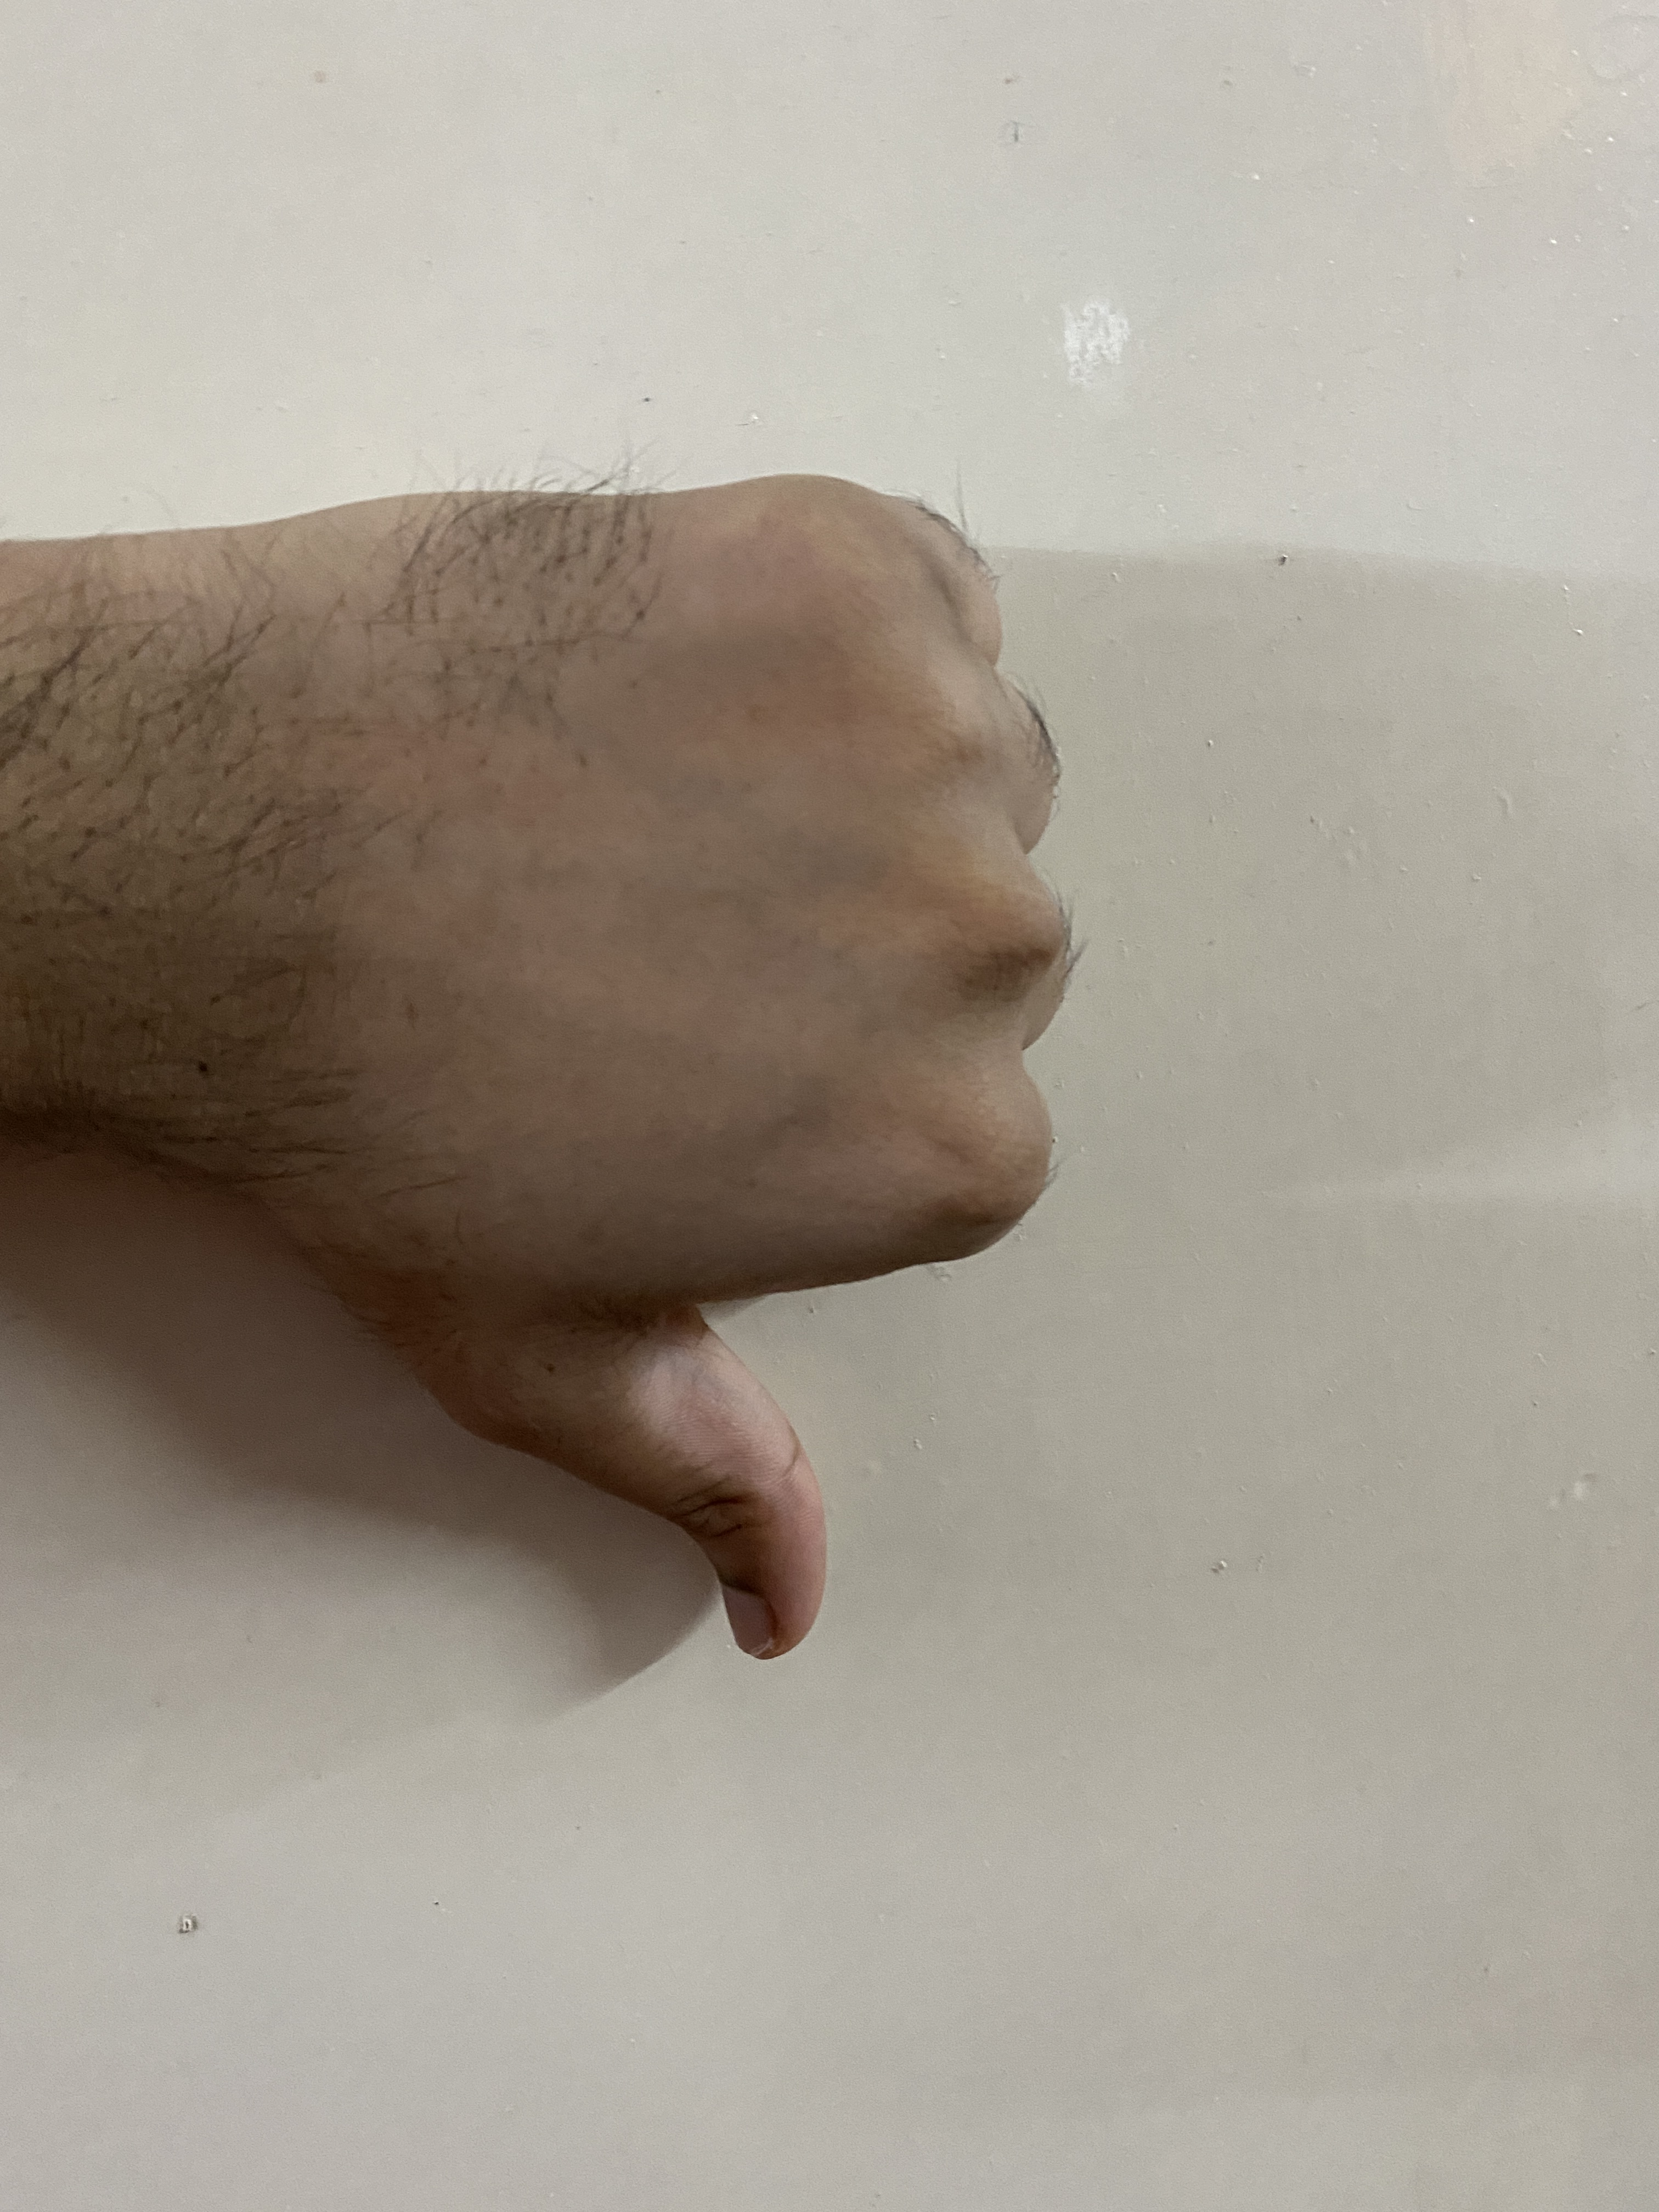down: (5, 394, 1140, 1787)
